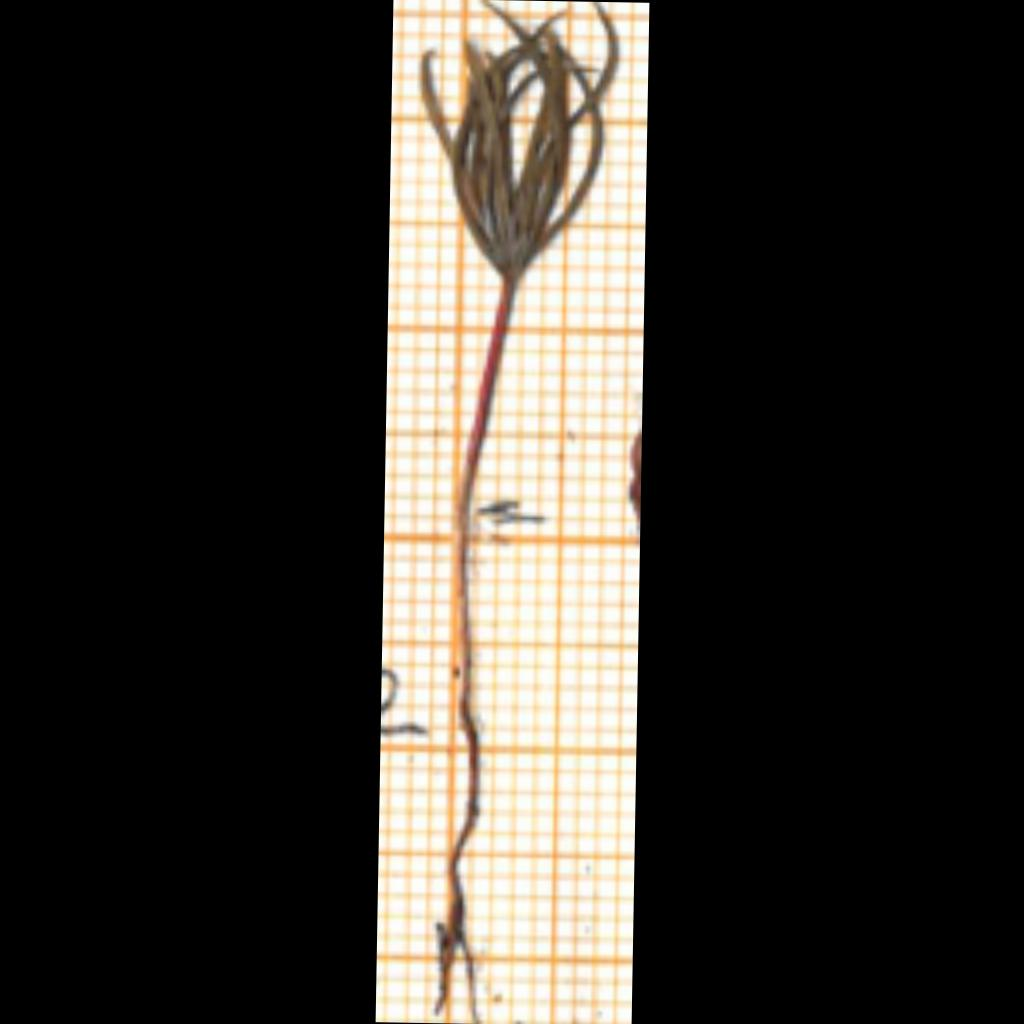flowerPinus: (422, 2, 615, 279)
rootPinus: (440, 520, 480, 1016)
stemPinus: (459, 279, 514, 523)
